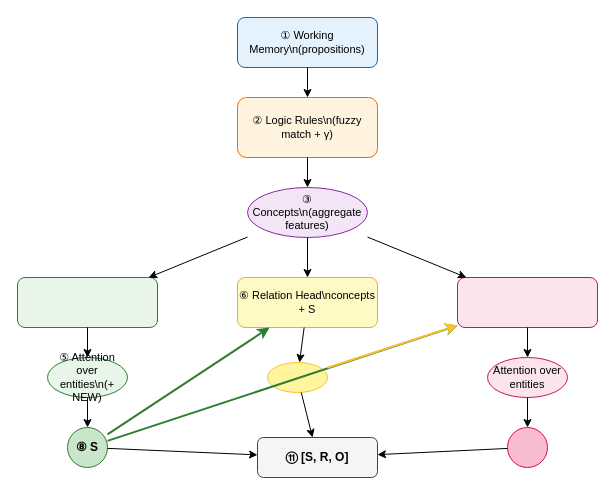
This 615x495 diagram has some shape labels left out. Here are the shapes that lost their labels. From the top down, the box of each, then its label:
(16, 276, 158, 328): ④ Subject Projection\nconcepts→entity space
(456, 276, 598, 328): ⑦ Object Projection\nconcepts + S + R
(266, 362, 328, 392): ⑨ R
(506, 426, 548, 468): ⑩ O
